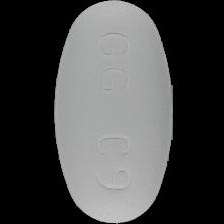69189-1962: (0, 0, 224, 224)
